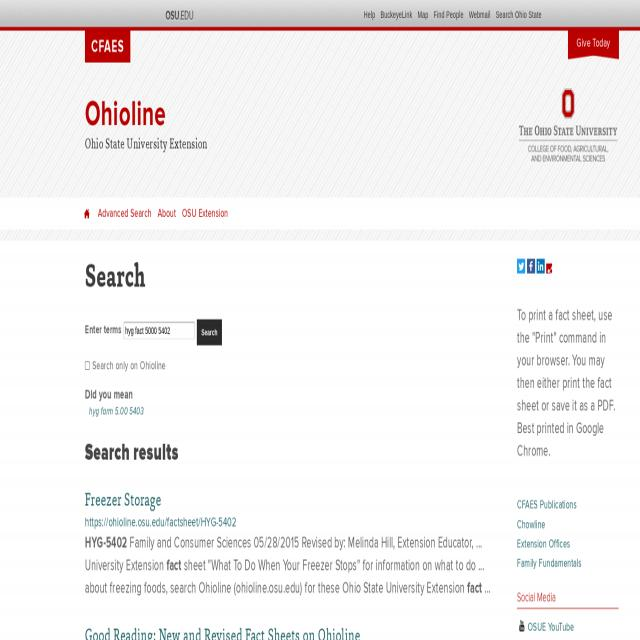button: (568, 28, 618, 62), (85, 31, 131, 63), (196, 320, 222, 344), (517, 259, 525, 274), (527, 259, 535, 274), (537, 259, 545, 274), (84, 208, 90, 220)
field: (124, 322, 194, 339), (85, 362, 91, 372)
